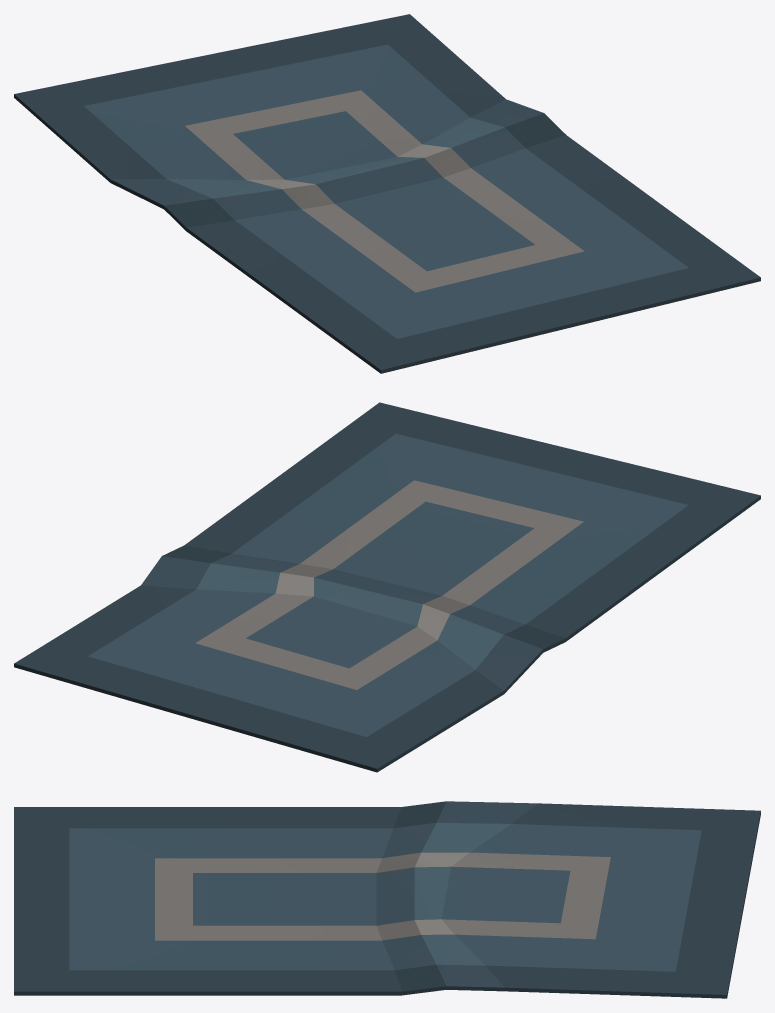
Rendered from SM_Prop_Rug_Small_Creased_02.glb.
3 renders of one model, top to bottom at view 1: azimuth 30°, elevation 25°; view 2: azimuth 150°, elevation 25°; view 3: azimuth 270°, elevation 25°, orthographic.
Visible parts, largest first — view 1: SM_Prop_Rug_Small_Creased_02; view 2: SM_Prop_Rug_Small_Creased_02; view 3: SM_Prop_Rug_Small_Creased_02.
Part boxes in pixels (<box>): SM_Prop_Rug_Small_Creased_02: <box>14,14,760,373</box>; SM_Prop_Rug_Small_Creased_02: <box>14,402,760,772</box>; SM_Prop_Rug_Small_Creased_02: <box>14,801,760,998</box>.
Bounding box in the file's own units: 0.0272 × 0.000618 × 0.0449.
Materials: 1 (1 with a texture image).
